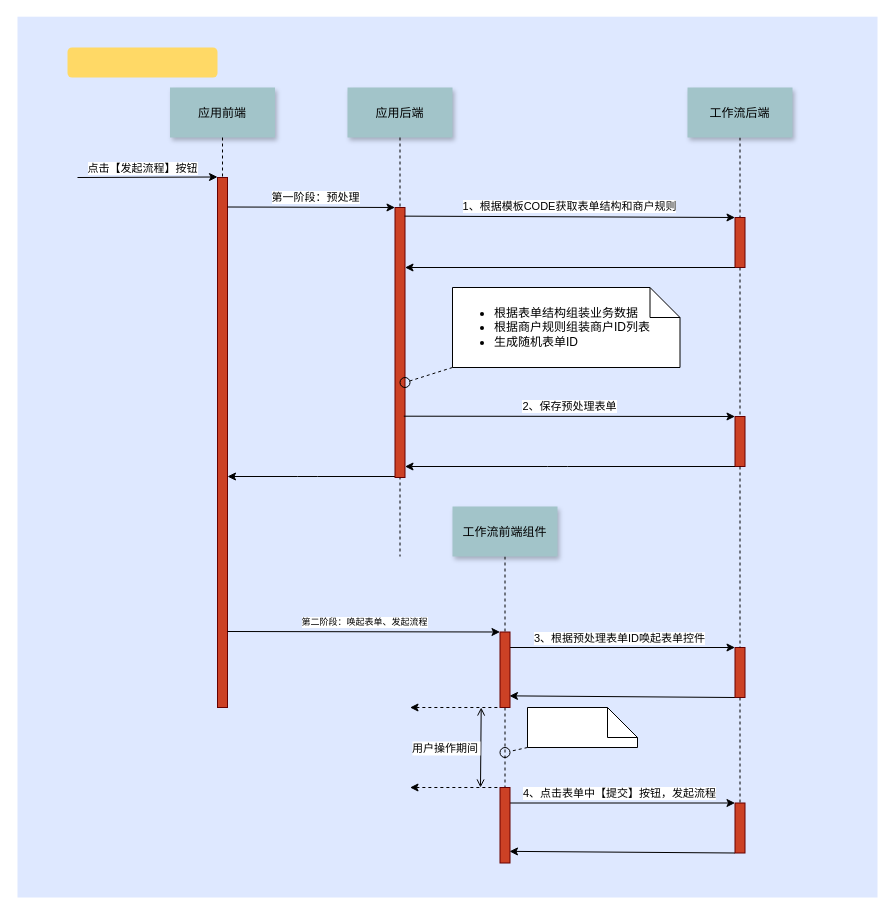
Image size: 894x915. Some labels were removed from this diagram. Each missing label, with the centre of its shape:
应用端接入启动流程: [142,62]
用户填写表单: [582,727]
